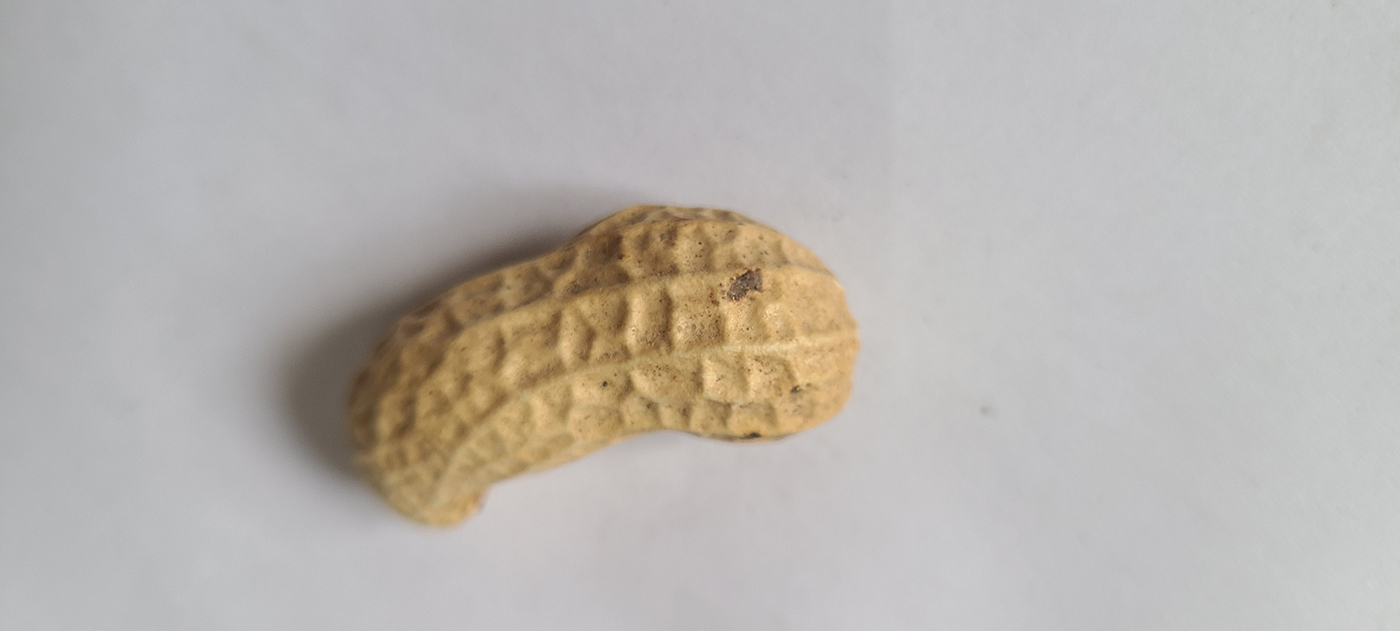h: (342, 200, 862, 532)
